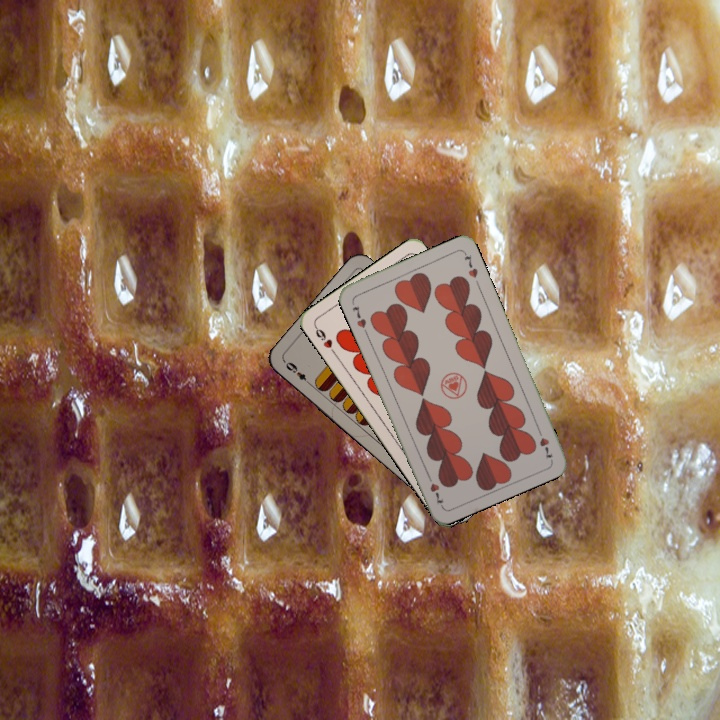E9: (281, 358, 314, 388)
H7: (533, 423, 555, 462), (348, 301, 369, 331)
H9: (311, 322, 339, 358)
